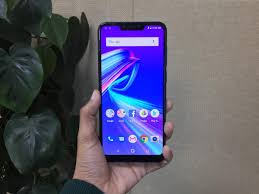asus: (94, 18, 170, 165)
